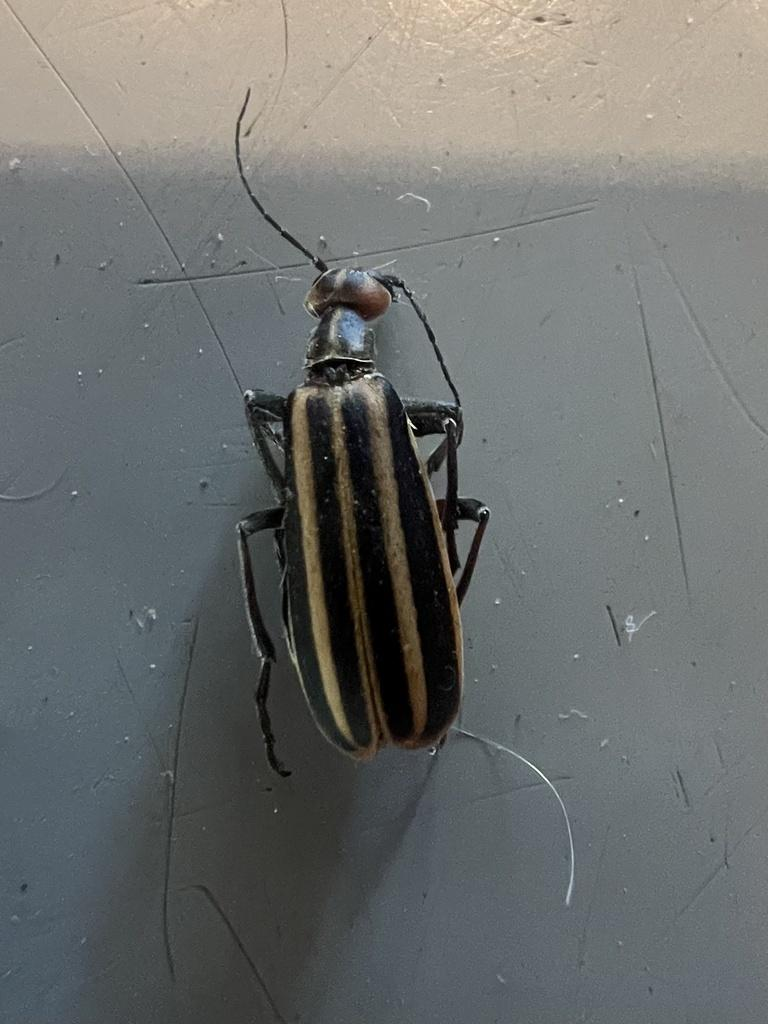blister_beetle: (94, 43, 688, 893)
